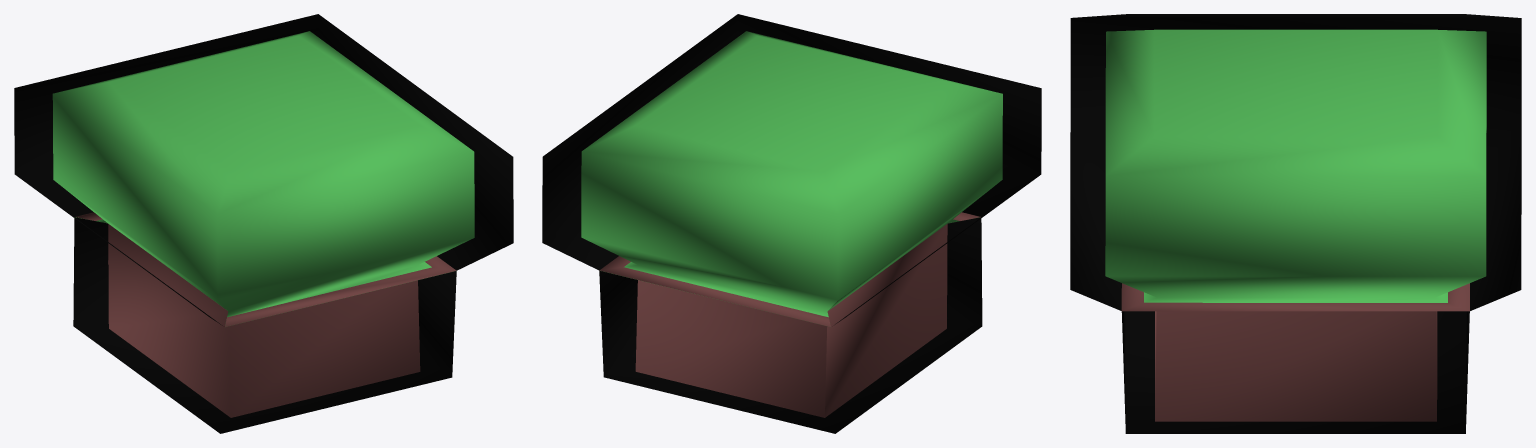
File: Little Island.fbx
3 renders of one model, left to right at view 1: azimuth 30°, elevation 25°; view 2: azimuth 150°, elevation 25°; view 3: azimuth 270°, elevation 25°, orthographic. The views are drawn at different scales.
Visible parts, largest first — view 1: Island.001; view 2: Island.001; view 3: Island.001.
Boxes of the visible parts, x1=… form: Island.001: x1=14, y1=14, x2=513, y2=433; Island.001: x1=542, y1=14, x2=1041, y2=433; Island.001: x1=1070, y1=14, x2=1521, y2=433.
Bounding box in the file's own units: 161 × 126 × 178.
